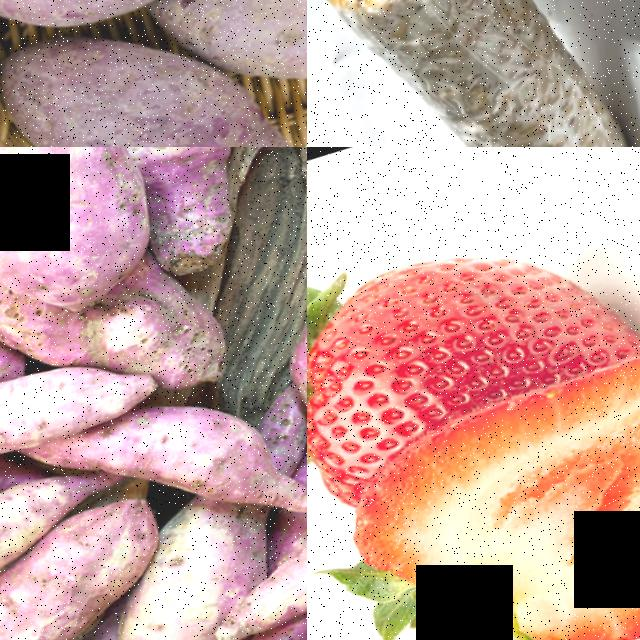strawberry: (307, 147, 640, 510), (323, 331, 640, 640)
sweet potato: (0, 147, 186, 334), (0, 0, 215, 147), (71, 147, 300, 277), (0, 315, 175, 480), (128, 368, 296, 517), (97, 47, 307, 147), (0, 0, 282, 74), (0, 526, 140, 640), (206, 514, 307, 640), (220, 0, 307, 140), (0, 464, 69, 603), (270, 275, 307, 476)
tempeh: (307, 0, 588, 147)
